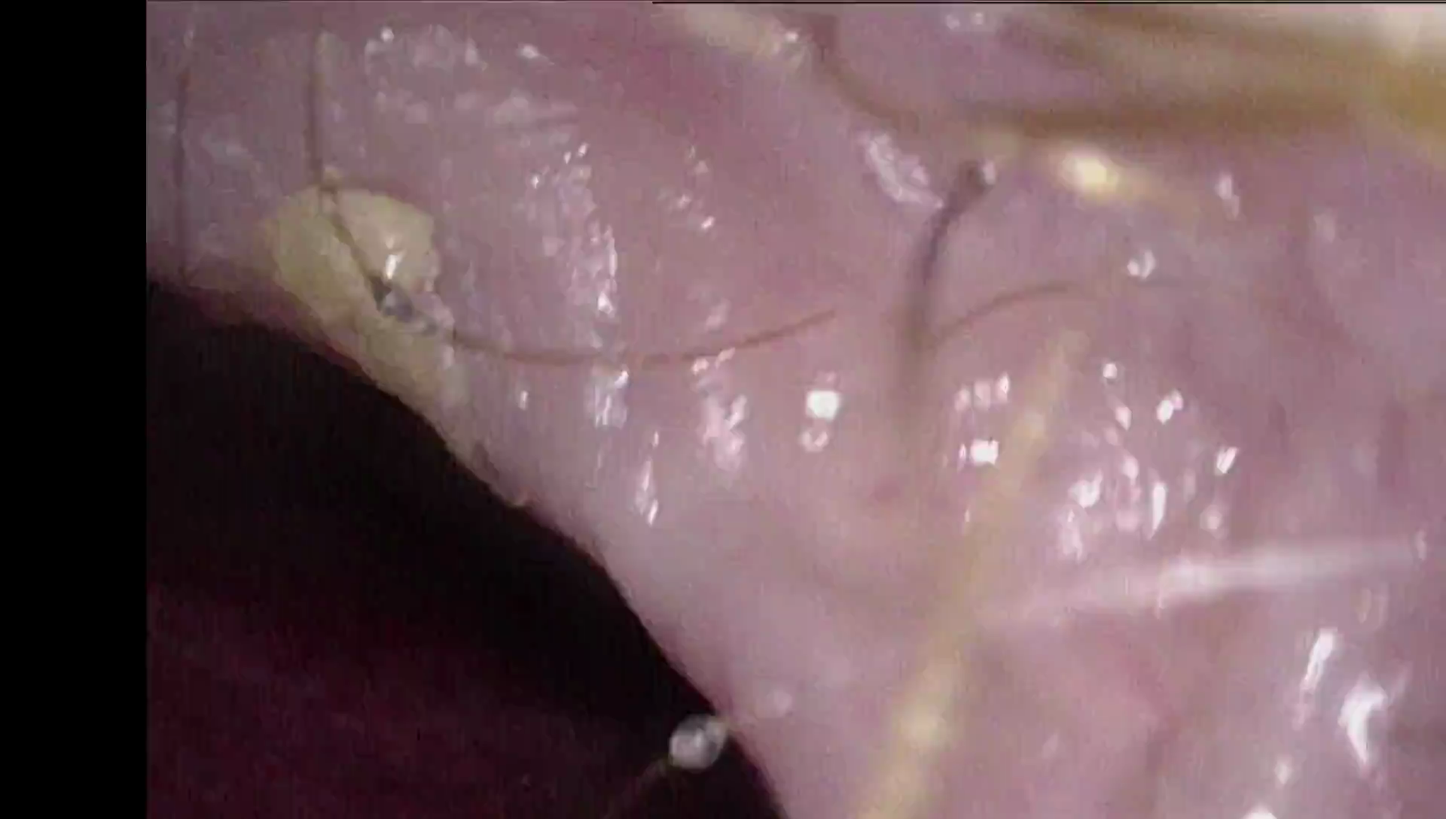next: (277, 391, 599, 683), (459, 547, 797, 819)
